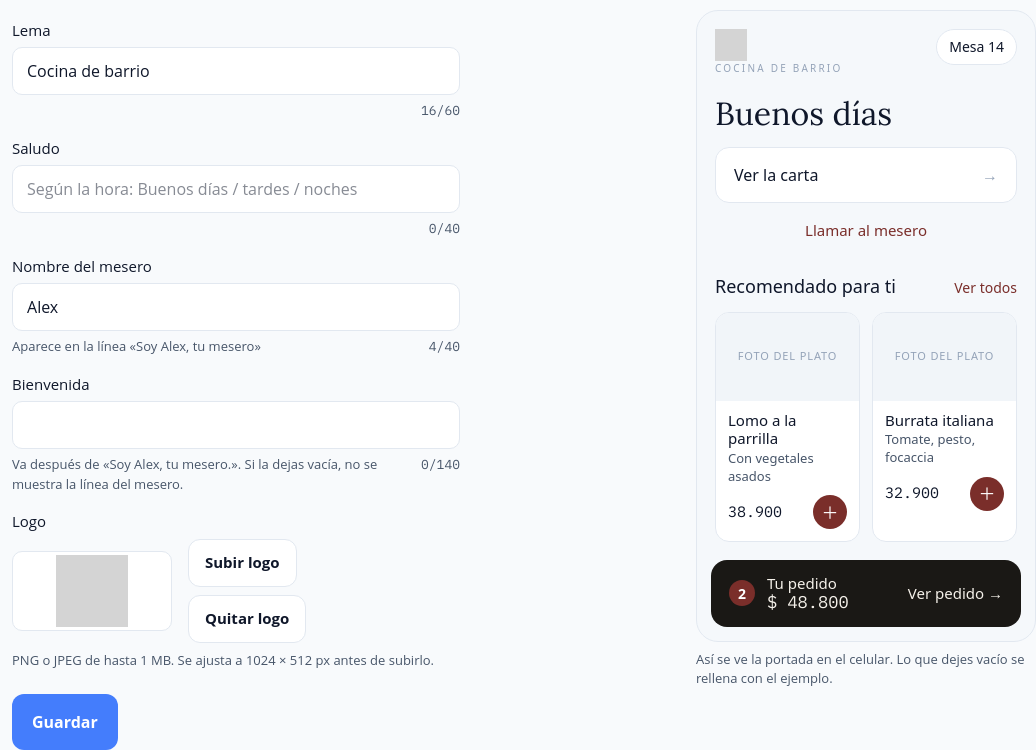
removes the logo and sends remove on save
(page scrolled)
Click the button "Quitar logo": click(247, 618) [188,594,306,642]
(page scrolled)
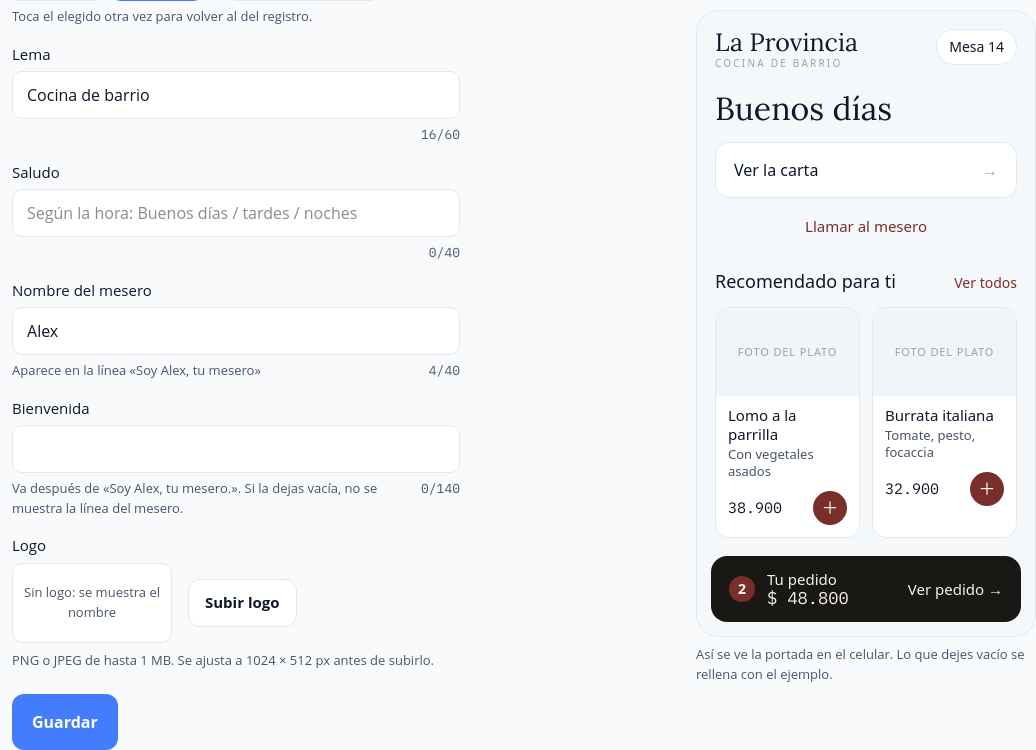
Click the button "Guardar": click(65, 722) [12,694,118,749]
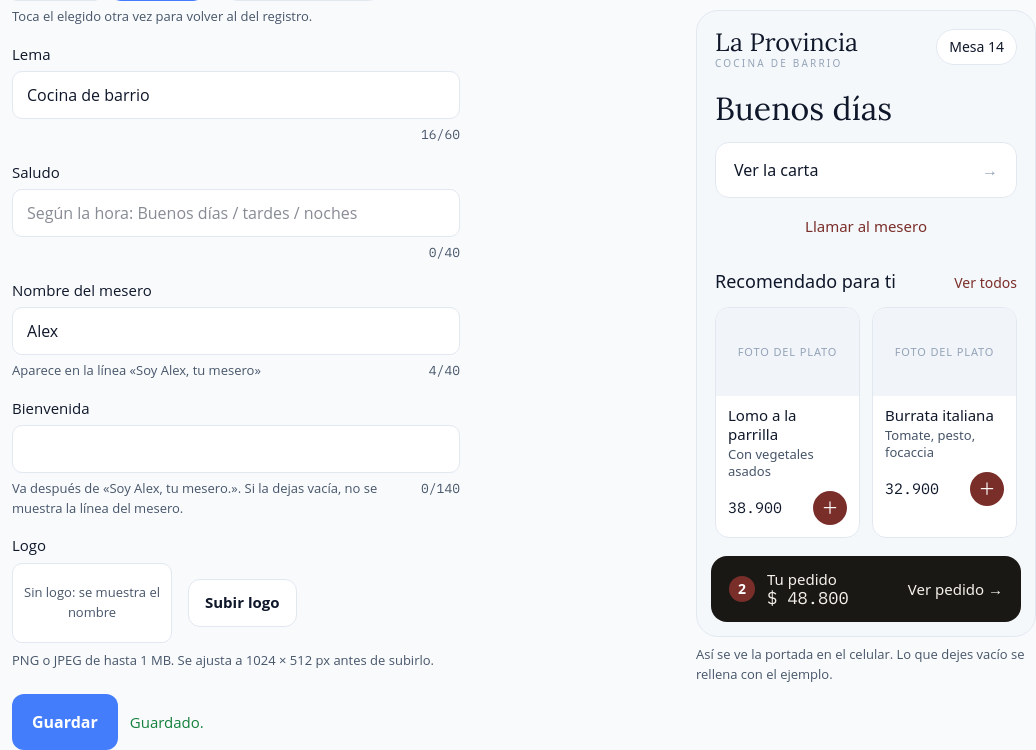
Expected: the button "Quitar logo" is not shown
Expected: the message shows "Guardado", [130,712,204,732]
